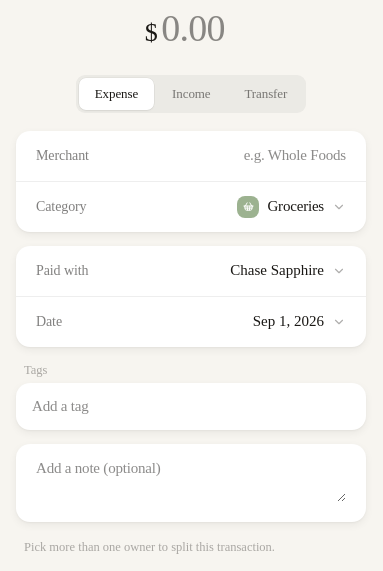
Test: TxForm — income deposit accounts (spec 033) › direction toggle income→expense: source resets to first card
Click the tab "Income": click(191, 94) [156, 78, 226, 110]
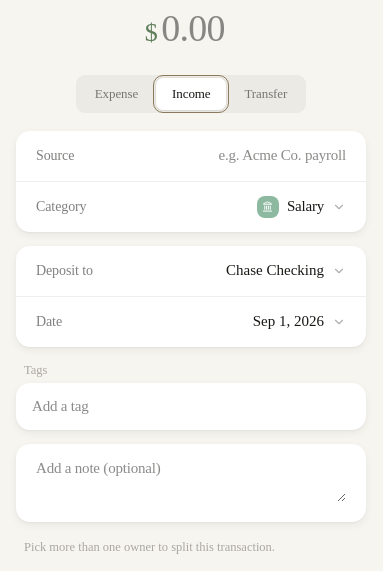
Click the tab "Expense": click(116, 94) [79, 78, 154, 110]
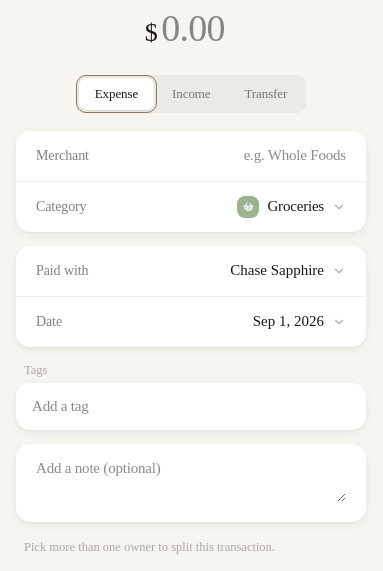
Result: the element showing "Chase Sapphire" is shown at [230, 262, 346, 278]
